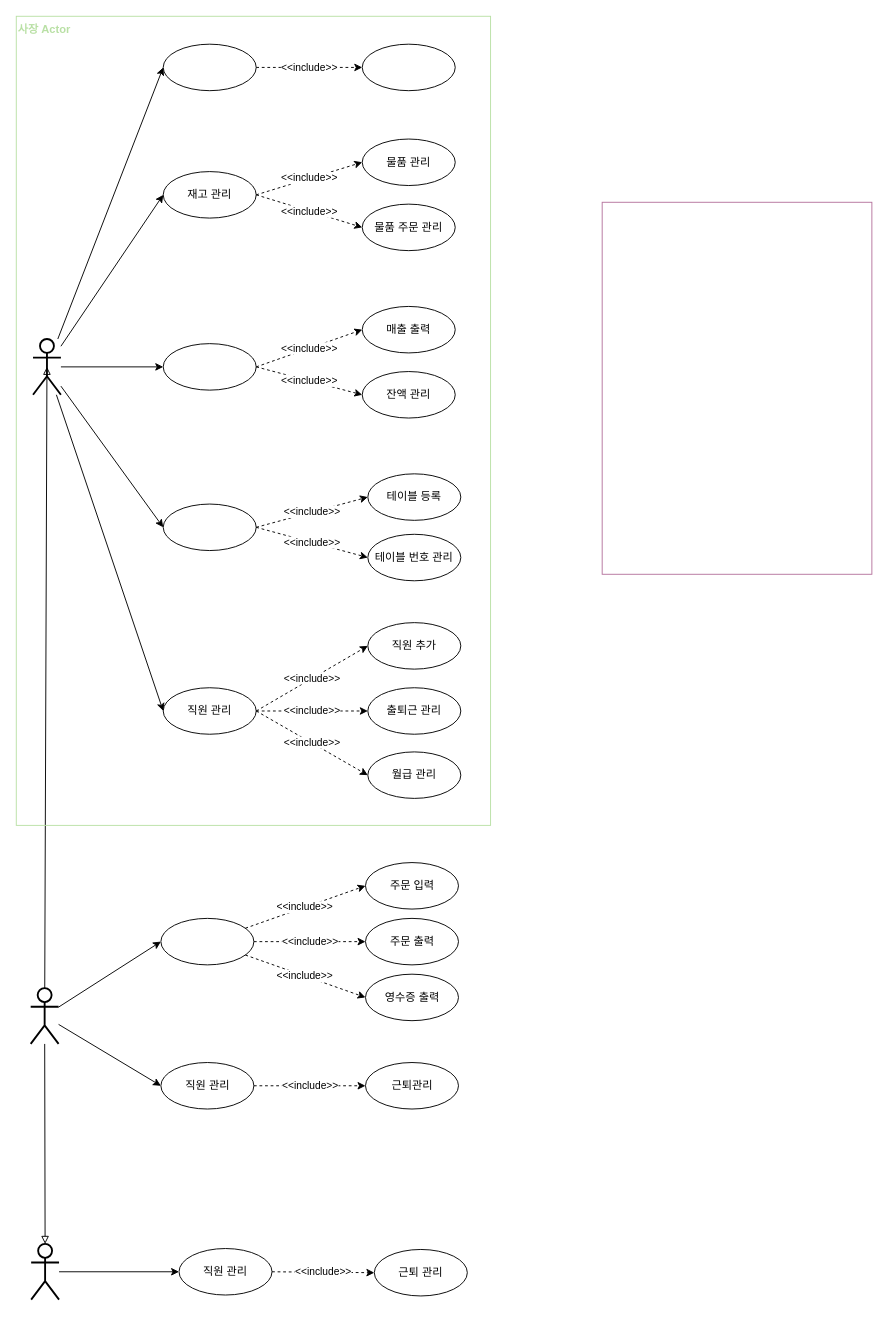
The diagram is 888 pixels wide and 1335 high, and some of its shapes have lost their labels. The shapes that lost their labels are listed below. From the top down, each one's centre as x and y in pixels, then its label:
At point 209,67: "메뉴 관리".
At point 408,67: "메뉴 등록".
At point 46,366: "사장".
At point 209,366: "매출 관리".
At point 736,387: "주문 입력 (A.A)".
At point 209,527: "테이블 관리".
At point 207,941: "주문 관리".
At point 44,1015: "사용자".
At point 45,1271: "직원".
